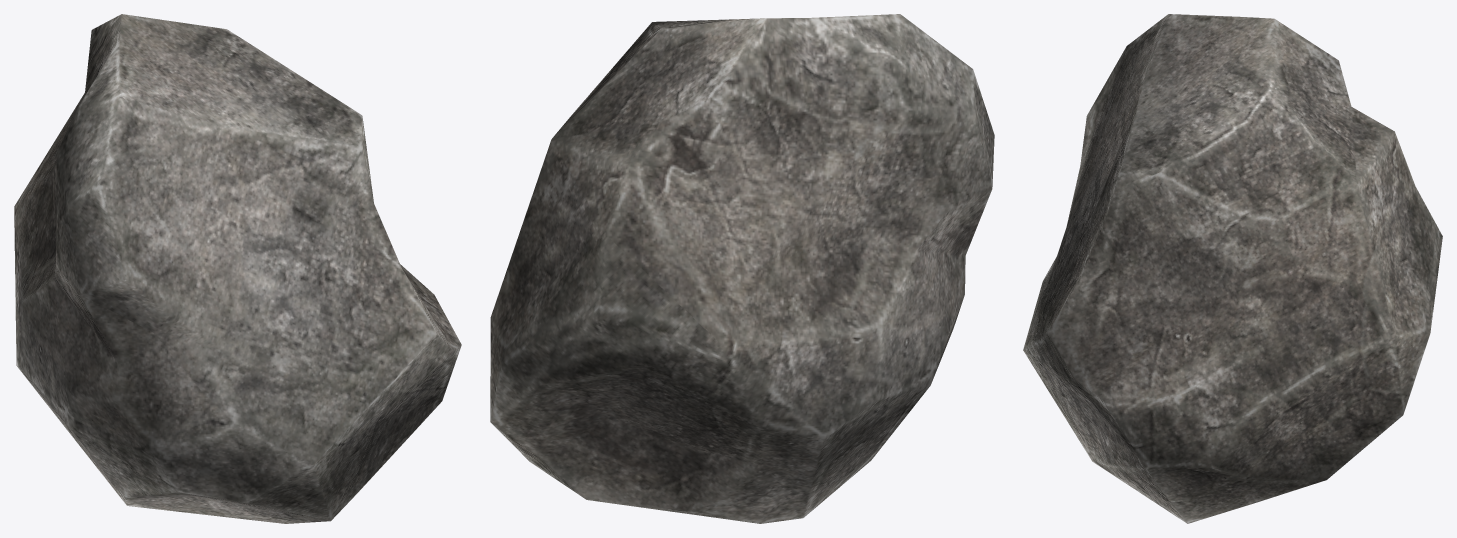
Rendered from Rock4.glb.
The picture shows the model from 3 angles, left to right: view 1: azimuth 30°, elevation 25°; view 2: azimuth 150°, elevation 25°; view 3: azimuth 270°, elevation 25°; orthographic projection. The views are drawn at different scales.
Parts seen in each view (by area): view 1: Rock4; view 2: Rock4; view 3: Rock4.
Boxes of the visible parts, x1=… form: Rock4: x1=14, y1=14, x2=461, y2=523; Rock4: x1=490, y1=14, x2=994, y2=523; Rock4: x1=1023, y1=14, x2=1442, y2=523.
Size of the model in its own units: 0.2079 by 0.2547 by 0.2268.
Materials: 1 (1 with a texture image).
